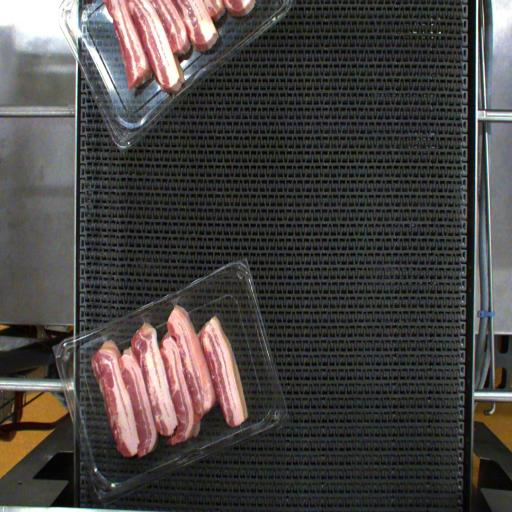packaging-error: (168, 285, 189, 317), (95, 324, 114, 353), (134, 304, 154, 331)
